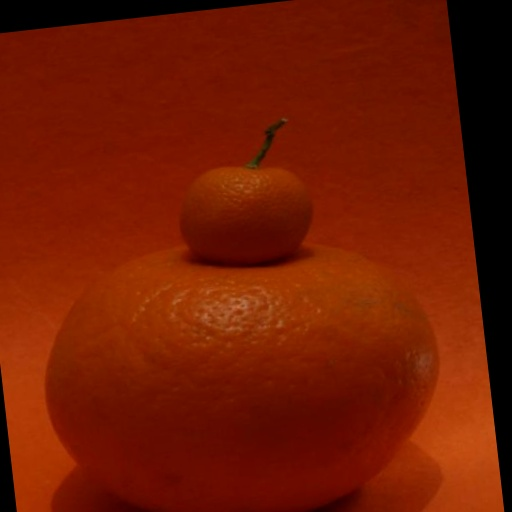fruit: (46, 246, 438, 512), (180, 119, 312, 265)
